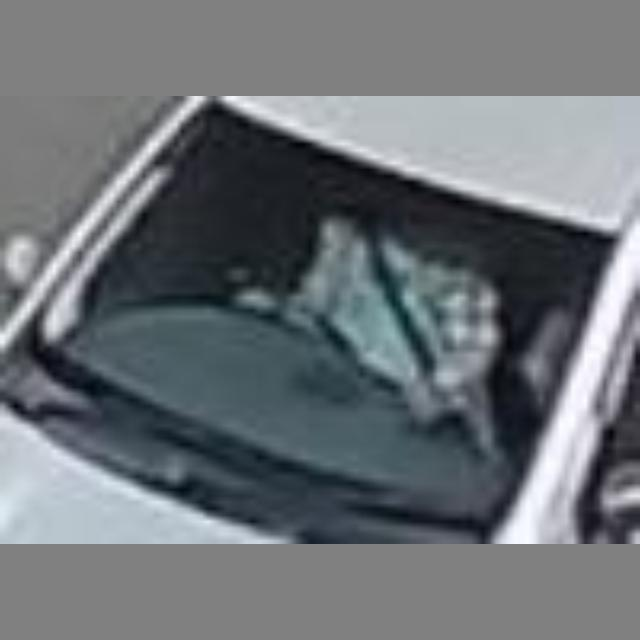pakai: (275, 218, 493, 429)
